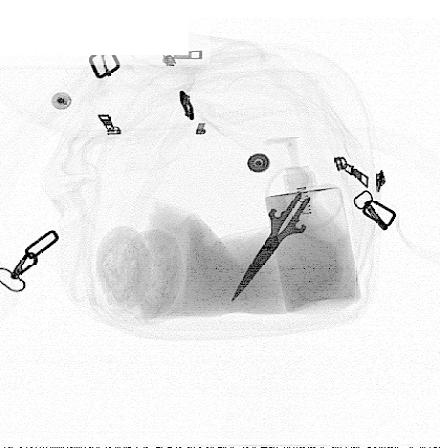Scissors: (231, 164, 345, 302)
